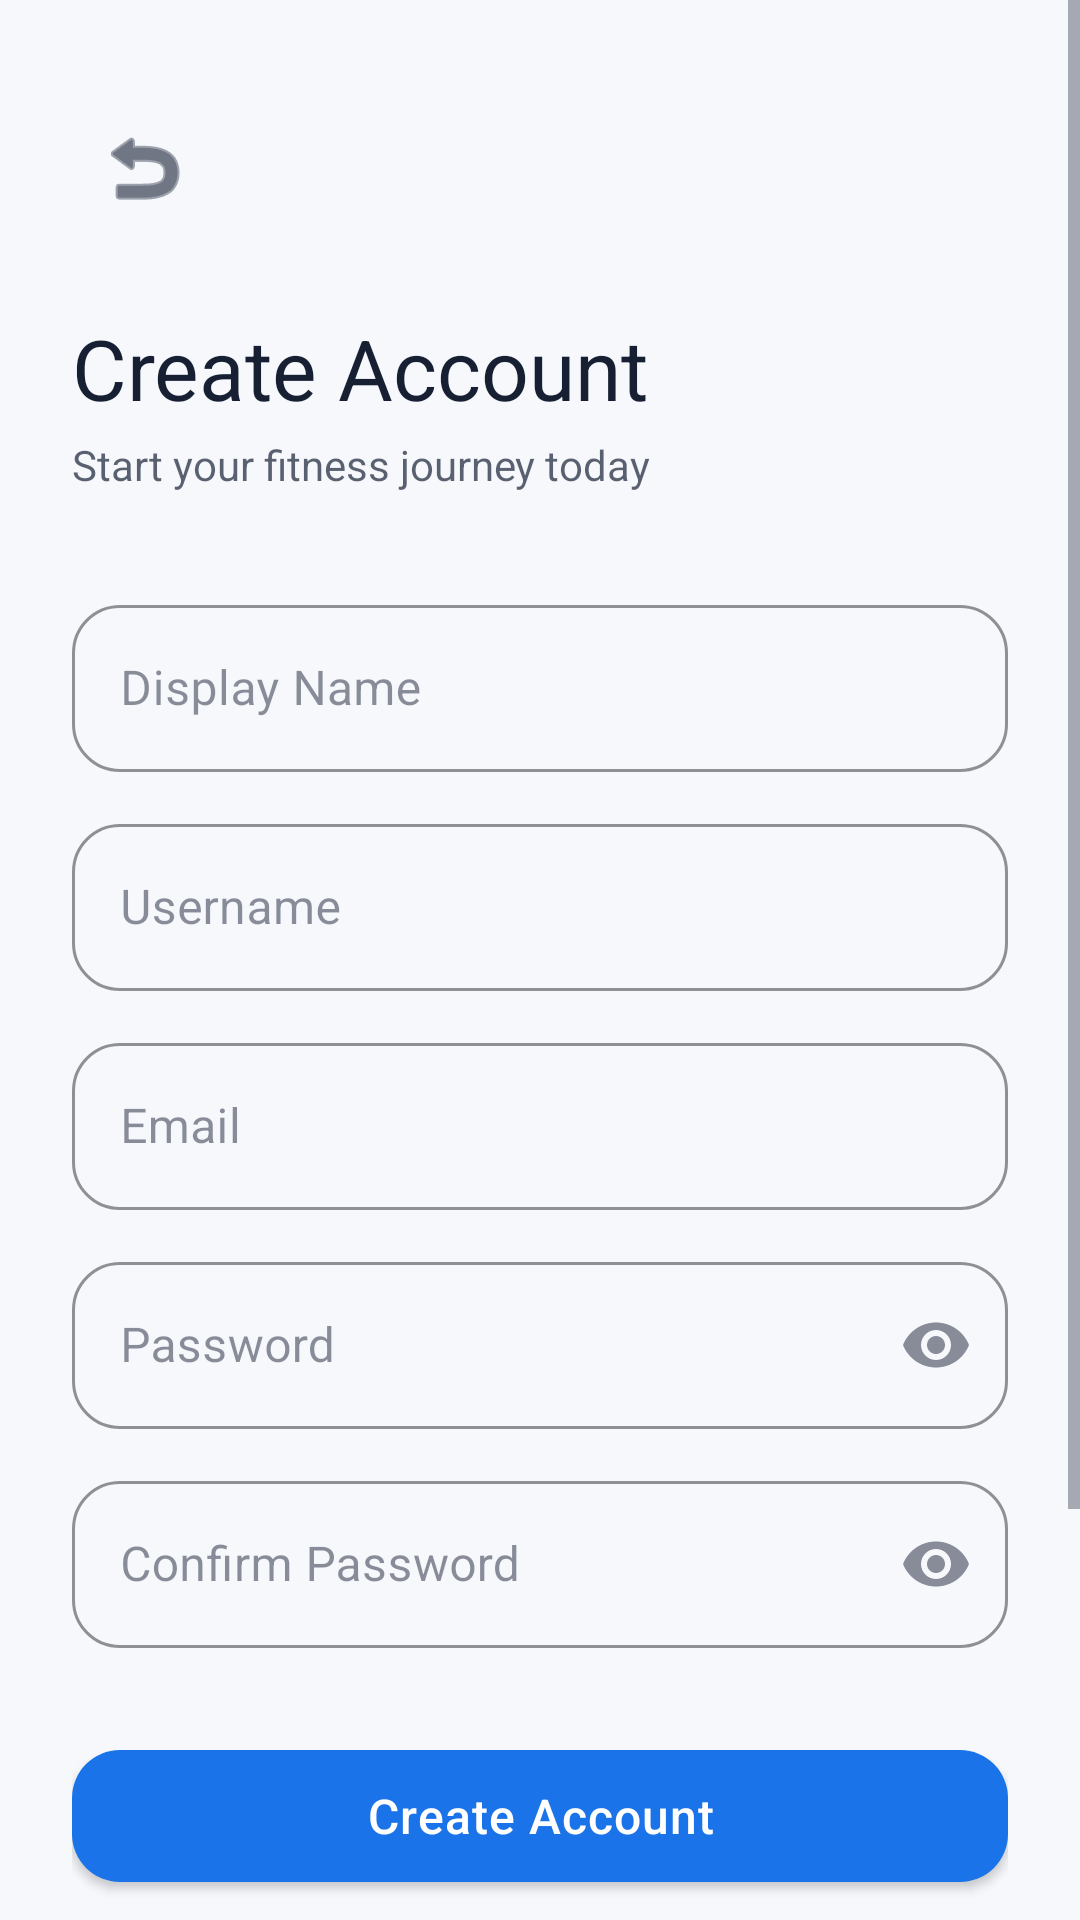

Where icons sit on this 1080w x 1920h app screen, as box=[x1, y1, x2, y2]:
Back: box=[111, 137, 180, 200]
